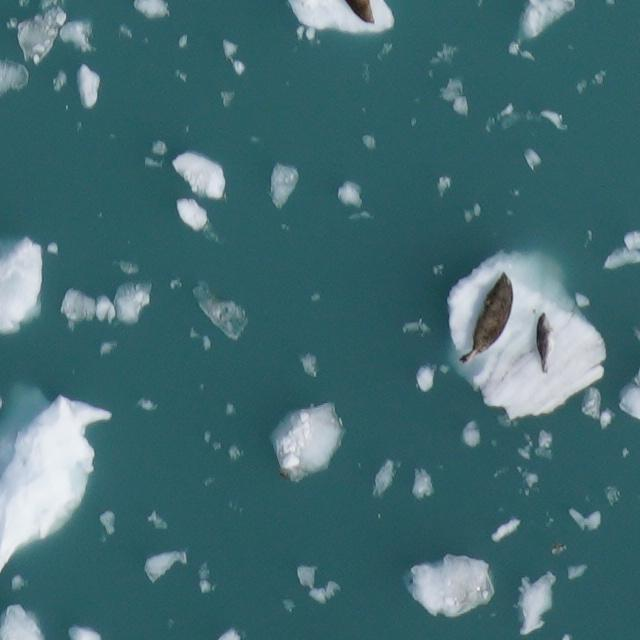seal: (447, 272, 530, 375), (536, 312, 556, 374)
